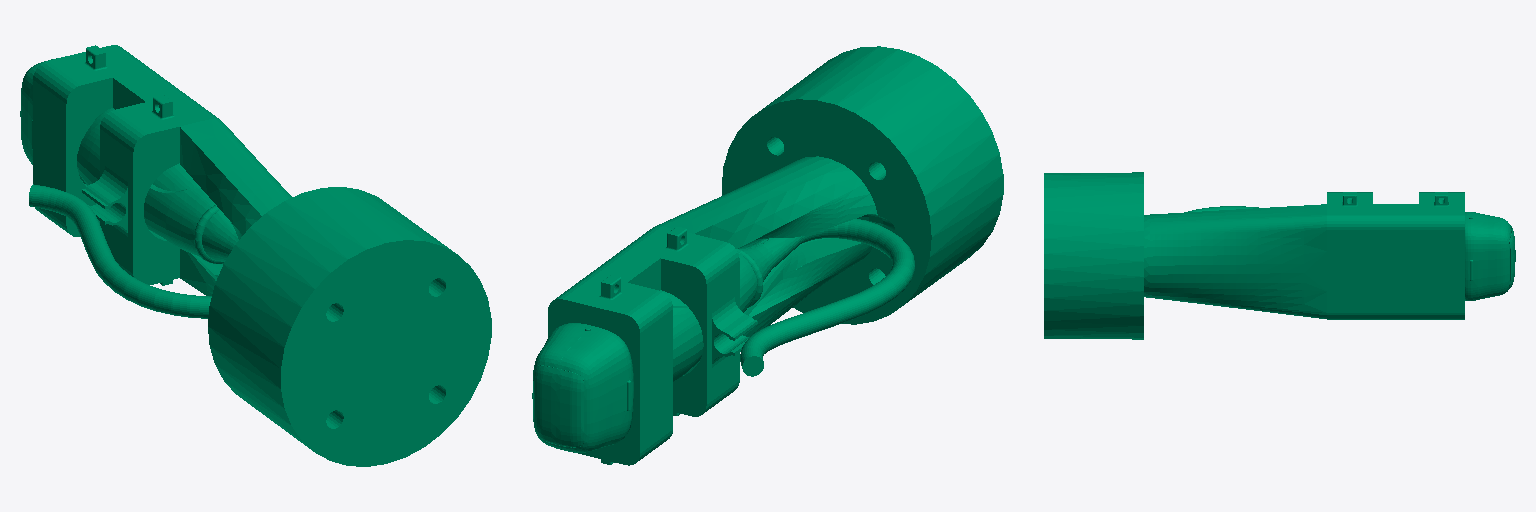
URDF robot description (ur3_with_ultrasound_probe):
<?xml version="1.0" encoding="utf-8"?>
<!-- =================================================================================== -->
<!-- |    This document was autogenerated by xacro from ur3_with_ultrasound_probe.xacro | -->
<!-- |    EDITING THIS FILE BY HAND IS NOT RECOMMENDED                                 | -->
<!-- =================================================================================== -->
<robot name="ur3_with_ultrasound_probe">
  <!--
  Author: [author]
-->
  <!-- measured from model -->
  <link name="base_link">
    <visual>
      <origin rpy="0 0 3.14159265359" xyz="0 0 0"/>
      <geometry>
        <mesh filename="package://ur_description/meshes/ur3/visual/base.dae"/>
      </geometry>
      <material name="LightGrey">
        <color rgba="0.7 0.7 0.7 1.0"/>
      </material>
    </visual>
    <collision>
      <origin rpy="0 0 3.14159265359" xyz="0 0 0"/>
      <geometry>
        <mesh filename="package://ur_description/meshes/ur3/collision/base.stl"/>
      </geometry>
    </collision>
    <inertial>
      <mass value="2.0"/>
      <origin rpy="0 0 0" xyz="0.0 0.0 0.0"/>
      <inertia ixx="0.0030531654454" ixy="0.0" ixz="0.0" iyy="0.0030531654454" iyz="0.0" izz="0.005625"/>
    </inertial>
  </link>
  <joint name="shoulder_pan_joint" type="revolute">
    <parent link="base_link"/>
    <child link="shoulder_link"/>
    <origin rpy="0 0 3.14159265359" xyz="0 0 0.1519"/>
    <axis xyz="0 0 1"/>
    <limit effort="330.0" lower="-3.14159265359" upper="3.14159265359" velocity="2.16"/>
    <dynamics damping="0.0" friction="0.0"/>
  </joint>
  <link name="shoulder_link">
    <visual>
      <origin rpy="0 0 3.14159265359" xyz="0 0 0"/>
      <geometry>
        <mesh filename="package://ur_description/meshes/ur3/visual/shoulder.dae"/>
      </geometry>
      <material name="LightGrey">
        <color rgba="0.7 0.7 0.7 1.0"/>
      </material>
    </visual>
    <collision>
      <origin rpy="0 0 3.14159265359" xyz="0 0 0"/>
      <geometry>
        <mesh filename="package://ur_description/meshes/ur3/collision/shoulder.stl"/>
      </geometry>
    </collision>
    <inertial>
      <mass value="2.0"/>
      <origin rpy="0 0 0" xyz="0.0 0.0 0.0"/>
      <inertia ixx="0.0080931634294" ixy="0.0" ixz="0.0" iyy="0.0080931634294" iyz="0.0" izz="0.005625"/>
    </inertial>
  </link>
  <joint name="shoulder_lift_joint" type="revolute">
    <parent link="shoulder_link"/>
    <child link="upper_arm_link"/>
    <origin rpy="1.570796327 0 0" xyz="0 0 0"/>
    <axis xyz="0 0 1"/>
    <limit effort="330.0" lower="-3.14159265359" upper="3.14159265359" velocity="2.16"/>
    <dynamics damping="0.0" friction="0.0"/>
  </joint>
  <link name="upper_arm_link">
    <visual>
      <origin rpy="1.57079632679 0 -1.57079632679" xyz="0 0 0.1198"/>
      <geometry>
        <mesh filename="package://ur_description/meshes/ur3/visual/upperarm.dae"/>
      </geometry>
      <material name="LightGrey">
        <color rgba="0.7 0.7 0.7 1.0"/>
      </material>
    </visual>
    <collision>
      <origin rpy="1.57079632679 0 -1.57079632679" xyz="0 0 0.1198"/>
      <geometry>
        <mesh filename="package://ur_description/meshes/ur3/collision/upperarm.stl"/>
      </geometry>
    </collision>
    <inertial>
      <mass value="3.42"/>
      <origin rpy="0 1.57079632679 0" xyz="-0.121825 0.0 0.12"/>
      <inertia ixx="0.0217284832211" ixy="0.0" ixz="0.0" iyy="0.0217284832211" iyz="0.0" izz="0.00961875"/>
    </inertial>
  </link>
  <joint name="elbow_joint" type="revolute">
    <parent link="upper_arm_link"/>
    <child link="forearm_link"/>
    <origin rpy="0 0 0" xyz="-0.24365 0 0"/>
    <axis xyz="0 0 1"/>
    <limit effort="150.0" lower="-3.14159265359" upper="3.14159265359" velocity="3.15"/>
    <dynamics damping="0.0" friction="0.0"/>
  </joint>
  <link name="forearm_link">
    <visual>
      <origin rpy="1.57079632679 0 -1.57079632679" xyz="0 0 0.0275"/>
      <geometry>
        <mesh filename="package://ur_description/meshes/ur3/visual/forearm.dae"/>
      </geometry>
      <material name="LightGrey">
        <color rgba="0.7 0.7 0.7 1.0"/>
      </material>
    </visual>
    <collision>
      <origin rpy="1.57079632679 0 -1.57079632679" xyz="0 0 0.0275"/>
      <geometry>
        <mesh filename="package://ur_description/meshes/ur3/collision/forearm.stl"/>
      </geometry>
    </collision>
    <inertial>
      <mass value="1.26"/>
      <origin rpy="0 1.57079632679 0" xyz="-0.121825 0.0 0.0275"/>
      <inertia ixx="0.00654680644378" ixy="0.0" ixz="0.0" iyy="0.00654680644378" iyz="0.0" izz="0.00354375"/>
    </inertial>
  </link>
  <joint name="wrist_1_joint" type="revolute">
    <parent link="forearm_link"/>
    <child link="wrist_1_link"/>
    <origin rpy="0 0 0" xyz="-0.21325 0 0.11235"/>
    <axis xyz="0 0 1"/>
    <limit effort="54.0" lower="-3.14159265359" upper="3.14159265359" velocity="3.2"/>
    <dynamics damping="0.0" friction="0.0"/>
  </joint>
  <link name="wrist_1_link">
    <visual>
      <origin rpy="1.57079632679 0 0" xyz="0 0 -0.085"/>
      <geometry>
        <mesh filename="package://ur_description/meshes/ur3/visual/wrist1.dae"/>
      </geometry>
      <material name="LightGrey">
        <color rgba="0.7 0.7 0.7 1.0"/>
      </material>
    </visual>
    <collision>
      <origin rpy="1.57079632679 0 0" xyz="0 0 -0.085"/>
      <geometry>
        <mesh filename="package://ur_description/meshes/ur3/collision/wrist1.stl"/>
      </geometry>
    </collision>
    <inertial>
      <mass value="0.8"/>
      <origin rpy="0 0 0" xyz="0.0 0.0 0.0"/>
      <inertia ixx="0.00161064085574" ixy="0.0" ixz="0.0" iyy="0.00161064085574" iyz="0.0" izz="0.00225"/>
    </inertial>
  </link>
  <joint name="wrist_2_joint" type="revolute">
    <parent link="wrist_1_link"/>
    <child link="wrist_2_link"/>
    <origin rpy="1.570796327 0 0" xyz="0 -0.08535 -1.75055776238e-11"/>
    <axis xyz="0 0 1"/>
    <limit effort="54.0" lower="-3.14159265359" upper="3.14159265359" velocity="3.2"/>
    <dynamics damping="0.0" friction="0.0"/>
  </joint>
  <link name="wrist_2_link">
    <visual>
      <origin rpy="0 0 0" xyz="0 0 -0.085"/>
      <geometry>
        <mesh filename="package://ur_description/meshes/ur3/visual/wrist2.dae"/>
      </geometry>
      <material name="LightGrey">
        <color rgba="0.7 0.7 0.7 1.0"/>
      </material>
    </visual>
    <collision>
      <origin rpy="0 0 0" xyz="0 0 -0.085"/>
      <geometry>
        <mesh filename="package://ur_description/meshes/ur3/collision/wrist2.stl"/>
      </geometry>
    </collision>
    <inertial>
      <mass value="0.8"/>
      <origin rpy="0 0 0" xyz="0.0 0.0 0.0"/>
      <inertia ixx="0.00157217337113" ixy="0.0" ixz="0.0" iyy="0.00157217337113" iyz="0.0" izz="0.00225"/>
    </inertial>
  </link>
  <joint name="wrist_3_joint" type="revolute">
    <parent link="wrist_2_link"/>
    <child link="wrist_3_link"/>
    <origin rpy="1.57079632659 3.14159265359 3.14159265359" xyz="0 0.0819 -1.67979707954e-11"/>
    <axis xyz="0 0 1"/>
    <limit effort="54.0" lower="-3.14159265359" upper="3.14159265359" velocity="3.2"/>
    <dynamics damping="0.0" friction="0.0"/>
  </joint>
  <link name="wrist_3_link">
    <visual>
      <origin rpy="1.57079632679 0 0" xyz="0 0 -0.082"/>
      <geometry>
        <mesh filename="package://ur_description/meshes/ur3/visual/wrist3.dae"/>
      </geometry>
      <material name="LightGrey">
        <color rgba="0.7 0.7 0.7 1.0"/>
      </material>
    </visual>
    <collision>
      <origin rpy="1.57079632679 0 0" xyz="0 0 -0.082"/>
      <geometry>
        <mesh filename="package://ur_description/meshes/ur3/collision/wrist3.stl"/>
      </geometry>
    </collision>
    <inertial>
      <mass value="0.35"/>
      <origin rpy="0 0 0" xyz="0.0 0.0 -0.01525"/>
      <inertia ixx="0.000204319709939" ixy="0.0" ixz="0.0" iyy="0.000204319709939" iyz="0.0" izz="0.000354375"/>
    </inertial>
  </link>
  <joint name="ee_fixed_joint" type="fixed">
    <parent link="wrist_3_link"/>
    <child link="ee_link"/>
    <origin rpy="0.0 -1.57079632679 1.57079632679" xyz="0.0 0.0 0.0"/>
  </joint>
  <link name="ee_link">
    <collision>
      <geometry>
        <box size="0.01 0.01 0.01"/>
      </geometry>
      <origin rpy="0 0 0" xyz="-0.01 0 0"/>
    </collision>
  </link>
  <joint name="wrist_3_passive_joint" type="fixed">
    <origin rpy="0 0 0" xyz="0 0 0"/>
    <parent link="wrist_3_link"/>
    <child link="tool0"/>
  </joint>
  <transmission name="shoulder_pan_trans">
    <type>transmission_interface/SimpleTransmission</type>
    <joint name="shoulder_pan_joint">
      <hardwareInterface>hardware_interface/PositionJointInterface</hardwareInterface>
    </joint>
    <actuator name="shoulder_pan_motor">
      <mechanicalReduction>1</mechanicalReduction>
    </actuator>
  </transmission>
  <transmission name="shoulder_lift_trans">
    <type>transmission_interface/SimpleTransmission</type>
    <joint name="shoulder_lift_joint">
      <hardwareInterface>hardware_interface/PositionJointInterface</hardwareInterface>
    </joint>
    <actuator name="shoulder_lift_motor">
      <mechanicalReduction>1</mechanicalReduction>
    </actuator>
  </transmission>
  <transmission name="elbow_trans">
    <type>transmission_interface/SimpleTransmission</type>
    <joint name="elbow_joint">
      <hardwareInterface>hardware_interface/PositionJointInterface</hardwareInterface>
    </joint>
    <actuator name="elbow_motor">
      <mechanicalReduction>1</mechanicalReduction>
    </actuator>
  </transmission>
  <transmission name="wrist_1_trans">
    <type>transmission_interface/SimpleTransmission</type>
    <joint name="wrist_1_joint">
      <hardwareInterface>hardware_interface/PositionJointInterface</hardwareInterface>
    </joint>
    <actuator name="wrist_1_motor">
      <mechanicalReduction>1</mechanicalReduction>
    </actuator>
  </transmission>
  <transmission name="wrist_2_trans">
    <type>transmission_interface/SimpleTransmission</type>
    <joint name="wrist_2_joint">
      <hardwareInterface>hardware_interface/PositionJointInterface</hardwareInterface>
    </joint>
    <actuator name="wrist_2_motor">
      <mechanicalReduction>1</mechanicalReduction>
    </actuator>
  </transmission>
  <transmission name="wrist_3_trans">
    <type>transmission_interface/SimpleTransmission</type>
    <joint name="wrist_3_joint">
      <hardwareInterface>hardware_interface/PositionJointInterface</hardwareInterface>
    </joint>
    <actuator name="wrist_3_motor">
      <mechanicalReduction>1</mechanicalReduction>
    </actuator>
  </transmission>
  <gazebo reference="shoulder_link">
    <selfCollide>true</selfCollide>
  </gazebo>
  <gazebo reference="upper_arm_link">
    <selfCollide>true</selfCollide>
  </gazebo>
  <gazebo reference="forearm_link">
    <selfCollide>true</selfCollide>
  </gazebo>
  <gazebo reference="wrist_1_link">
    <selfCollide>true</selfCollide>
  </gazebo>
  <gazebo reference="wrist_3_link">
    <selfCollide>true</selfCollide>
  </gazebo>
  <gazebo reference="wrist_2_link">
    <selfCollide>true</selfCollide>
  </gazebo>
  <gazebo reference="ee_link">
    <selfCollide>true</selfCollide>
  </gazebo>
  <!-- ROS base_link to UR 'Base' Coordinates transform -->
  <link name="base"/>
  <joint name="base_link-base_fixed_joint" type="fixed">
    <!-- NOTE: this rotation is only needed as long as base_link itself is
                 not corrected wrt the real robot (ie: rotated over 180
                 degrees)
      -->
    <origin rpy="0 0 -3.14159265359" xyz="0 0 0"/>
    <parent link="base_link"/>
    <child link="base"/>
  </joint>
  <!-- Frame coincident with all-zeros TCP on UR controller -->
  <link name="tool0"/>
  <!-- Create a fixed joint with a parameterized name. -->
  <joint name="measurement_tool_joint" type="fixed">
    <!-- The parent link must be read from the robot model it is attached to. -->
    <parent link="tool0"/>
    <child link="measurement_tool"/>
    <!-- The tool is directly attached to the flange. -->
    <origin rpy="0 3.14159265359 -1.57079632679" xyz="0 0 0.04"/>
  </joint>
  <link name="measurement_tool">
    <visual>
      <geometry>
        <!-- The path to the visual meshes in the package. -->
        <mesh filename="package://ur3_with_ultrasound_probe/meshes/visual/measurement_tool.stl"/>
      </geometry>
    </visual>
    <collision>
      <geometry>
        <!-- The path to the collision meshes in the package. -->
        <mesh filename="package://ur3_with_ultrasound_probe/meshes/collision/measurement_tool.stl"/>
      </geometry>
    </collision>
  </link>
  <!-- TCP frame -->
  <joint name="tcp_joint" type="fixed">
    <origin rpy="1.57079632679 1.57079632679 0" xyz="0 0 -0.168"/>
    <parent link="measurement_tool"/>
    <child link="tcp"/>
  </joint>
  <link name="tcp"/>
  <!-- define the ur3's position and orientation in the world coordinate system -->
  <link name="world"/>
  <joint name="world_joint" type="fixed">
    <parent link="world"/>
    <child link="base_link"/>
    <!-- TODO: check base_link name of robot -->
    <origin rpy="0.0 0.0 0.0" xyz="0.0 0.0 0.0"/>
  </joint>
</robot>

--- Render facts (derived) ---
Views: 3 orthographic renders of the robot side by side, from view 1: azimuth 30°, elevation 25°; view 2: azimuth 150°, elevation 25°; view 3: azimuth 270°, elevation 25°.
Model ur3_with_ultrasound_probe with 13 links and 12 joints (6 revolute, 6 fixed), rooted at world, posed all joints at 0.
Links seen in each view (by area): view 1: measurement_tool; view 2: measurement_tool; view 3: measurement_tool.
Boxes of the visible links, bbox=[...] form: measurement_tool: bbox=[20, 45, 491, 466]; measurement_tool: bbox=[532, 46, 1003, 465]; measurement_tool: bbox=[1044, 172, 1515, 339].
Size in the robot's own frame: 0.0834 by 0.2058 by 0.073 metres.
1 mesh visuals loaded from 8 distinct referenced files (1 binary STL); not drawn: 7 (reference not matched to a file when rendering).